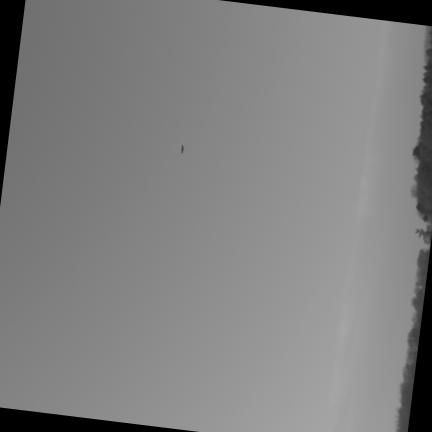Shahed: (181, 143, 184, 153)
